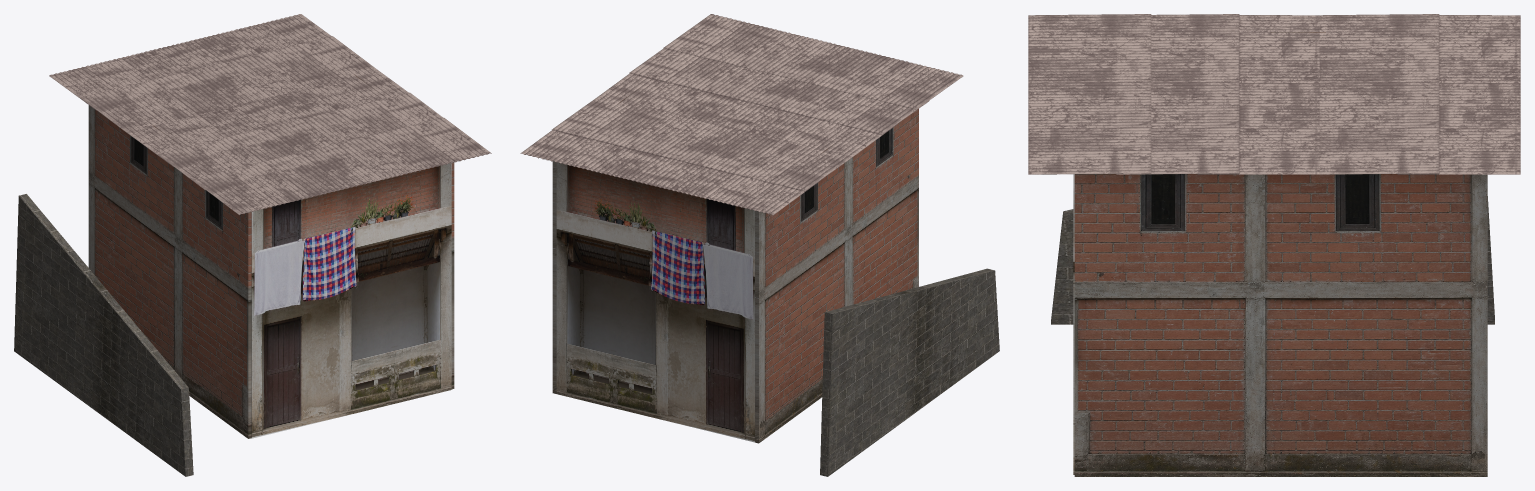
The model's file is casa_izquierda_14.fbx.
3 renders of one model, left to right at view 1: azimuth 30°, elevation 25°; view 2: azimuth 150°, elevation 25°; view 3: azimuth 270°, elevation 25°, orthographic. The views are drawn at different scales.
Parts seen in each view (by area): view 1: Techo 14.001, casa_izquierda_14A.001, casa_izquierda_14B.001, casa_izquierda_14C.001, casa_izquierda_14B.002; view 2: Techo 14.001, casa_izquierda_14A.002, casa_izquierda_14B.001, casa_izquierda_14C.001, casa_izquierda_14B.002; view 3: casa_izquierda_14B.002, Techo 14.001, casa_izquierda_14C.001, casa_izquierda_14A.001.
Boxes of the visible parts, <box> form: Techo 14.001: <box>49,14,491,214</box>; casa_izquierda_14A.001: <box>251,163,451,438</box>; casa_izquierda_14B.001: <box>88,80,251,438</box>; casa_izquierda_14C.001: <box>14,194,193,476</box>; casa_izquierda_14B.002: <box>292,29,454,389</box>; Techo 14.001: <box>520,14,963,215</box>; casa_izquierda_14A.002: <box>556,162,754,442</box>; casa_izquierda_14B.001: <box>755,109,918,443</box>; casa_izquierda_14C.001: <box>820,268,999,476</box>; casa_izquierda_14B.002: <box>552,91,635,393</box>; casa_izquierda_14B.002: <box>1074,174,1487,476</box>; Techo 14.001: <box>1028,14,1520,174</box>; casa_izquierda_14C.001: <box>1051,196,1494,324</box>; casa_izquierda_14A.001: <box>1073,174,1074,474</box>.
Bounding box in the file's own units: 996 × 829 × 1104.
